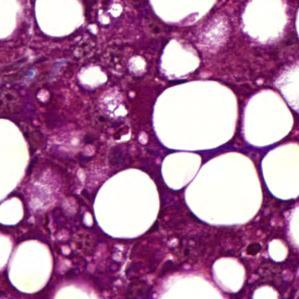steatosis: (150, 78, 239, 151), (94, 163, 163, 244), (243, 88, 295, 146)
